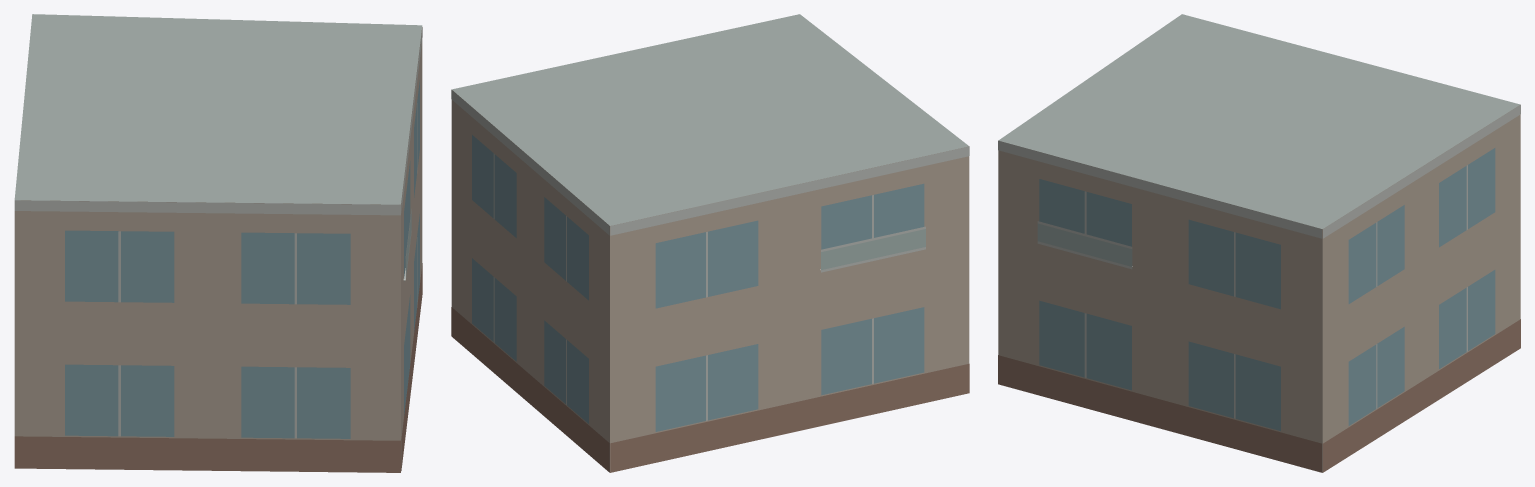
File: survey-upis-32792373.glb
3 views of the same model, side by side, from view 1: azimuth 30°, elevation 25°; view 2: azimuth 150°, elevation 25°; view 3: azimuth 270°, elevation 25° (orthographic). The views are drawn at different scales.
Parts seen in each view (by area): view 1: survey-upis-32792373.tmp; view 2: survey-upis-32792373.tmp; view 3: survey-upis-32792373.tmp.
Part boxes in pixels (bbox=[...]): survey-upis-32792373.tmp: bbox=[14, 14, 422, 472]; survey-upis-32792373.tmp: bbox=[451, 14, 969, 472]; survey-upis-32792373.tmp: bbox=[998, 14, 1520, 472].
Size of the model in its own units: 11.56 by 6.1 by 11.86.
